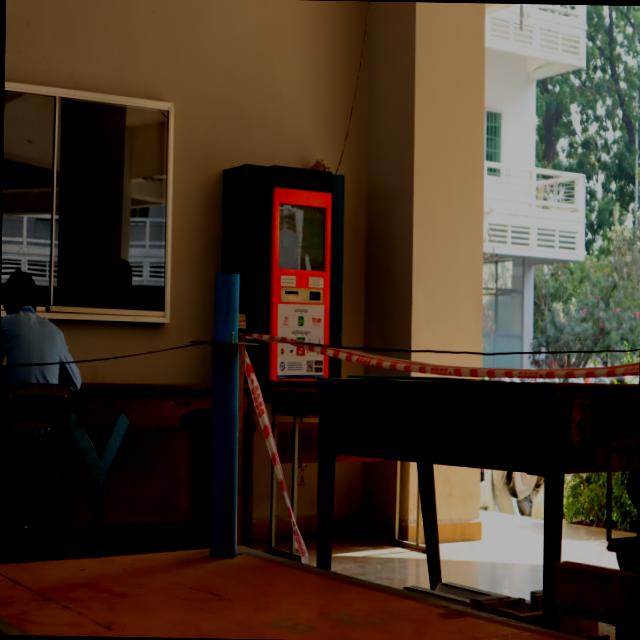pole: (187, 264, 260, 406)
